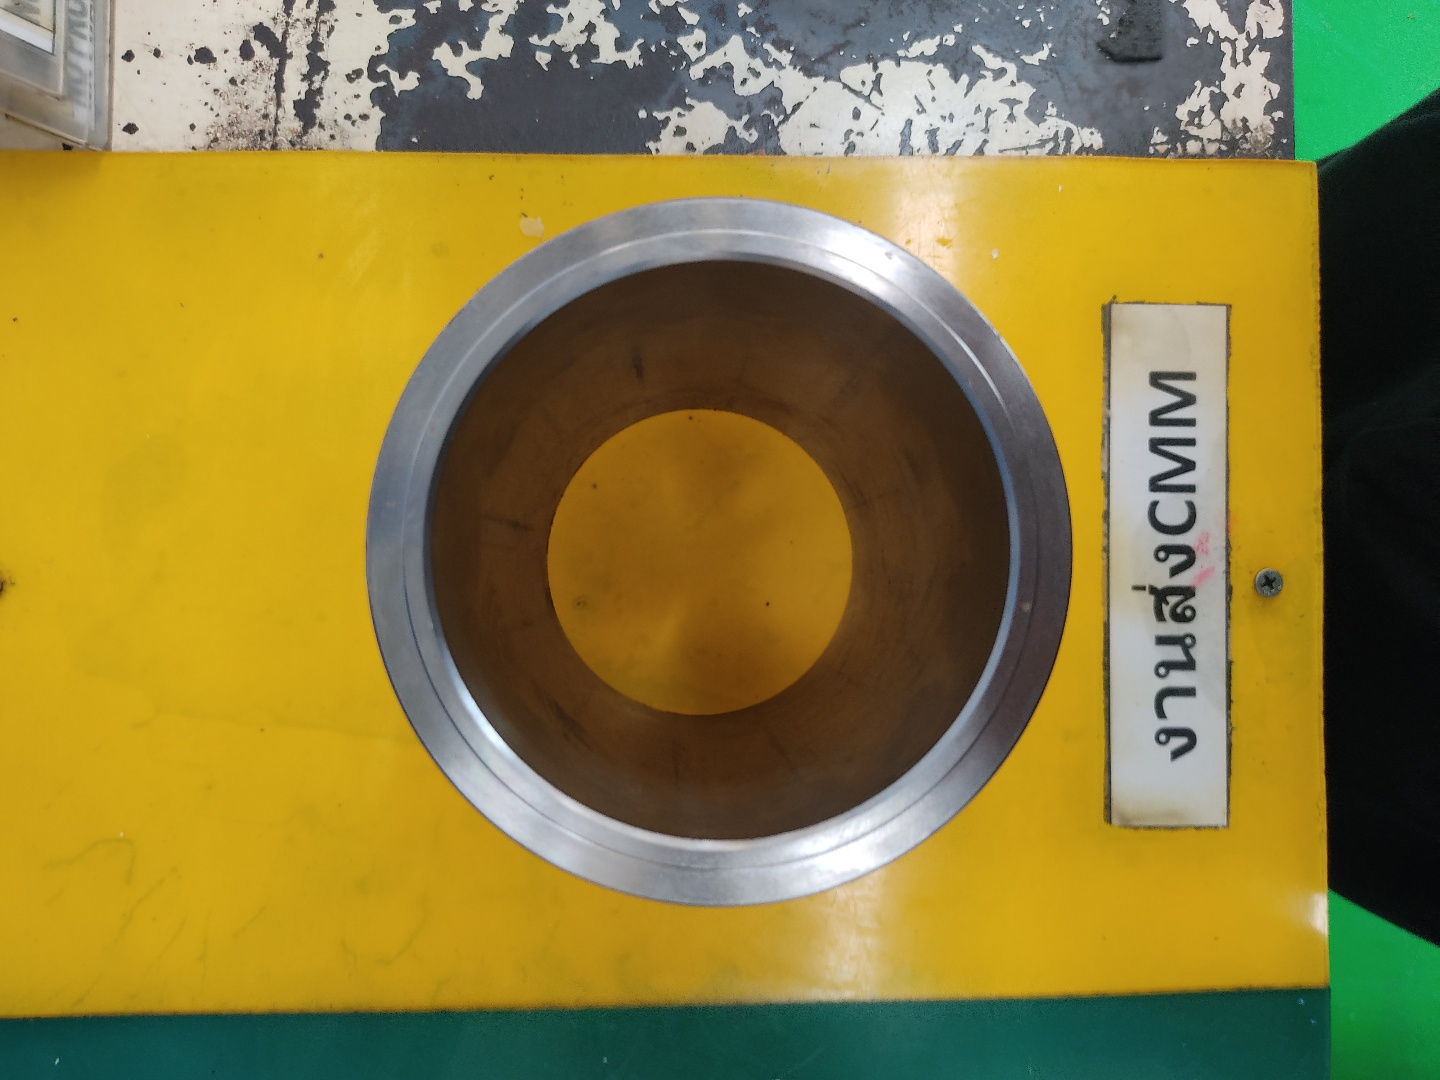cylinder: (359, 194, 1079, 911)
